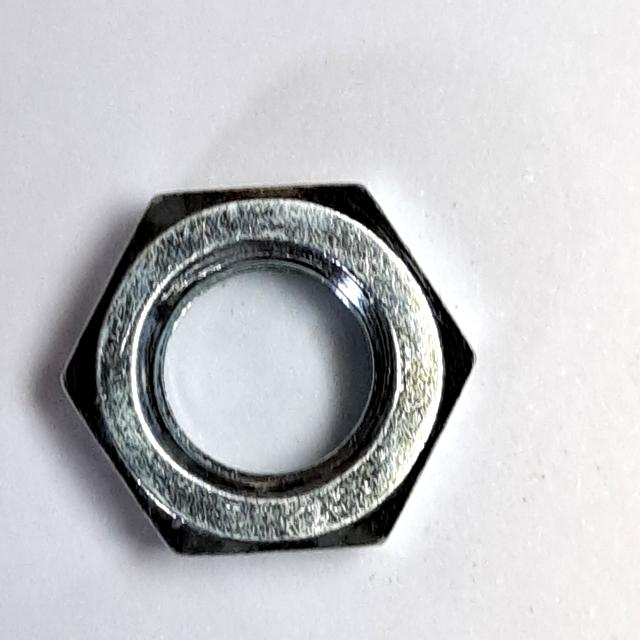Excellent: (51, 170, 497, 567)
